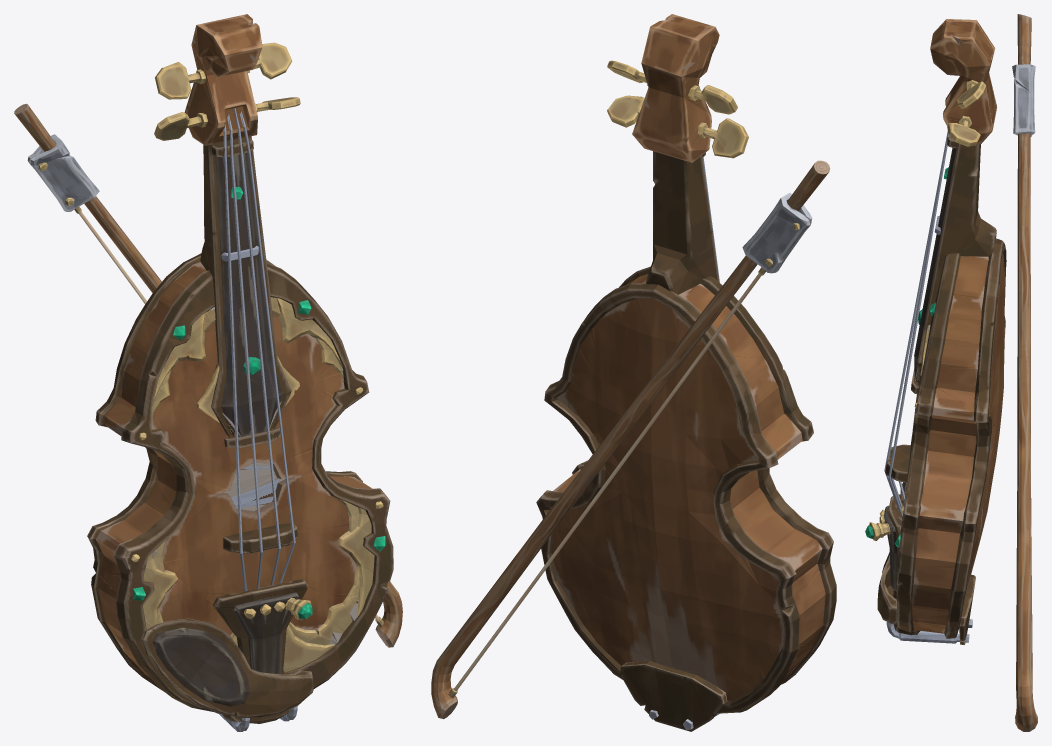
Rendered from violin.glb.
The picture shows the model from 3 angles, left to right: view 1: azimuth 30°, elevation 25°; view 2: azimuth 150°, elevation 25°; view 3: azimuth 270°, elevation 25°; orthographic projection. The views are drawn at different scales.
Bounding box in the file's own units: 0.3417 × 0.5885 × 0.1493.
Materials: 2 (2 with a texture image).
